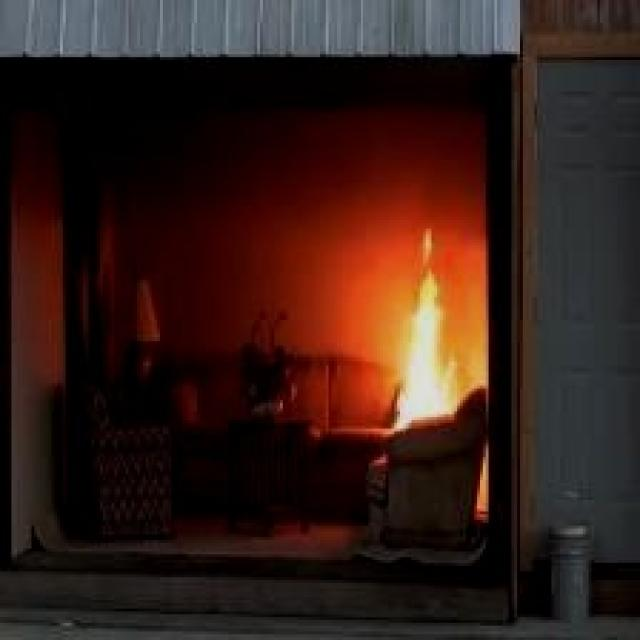fire: (383, 225, 488, 402)
